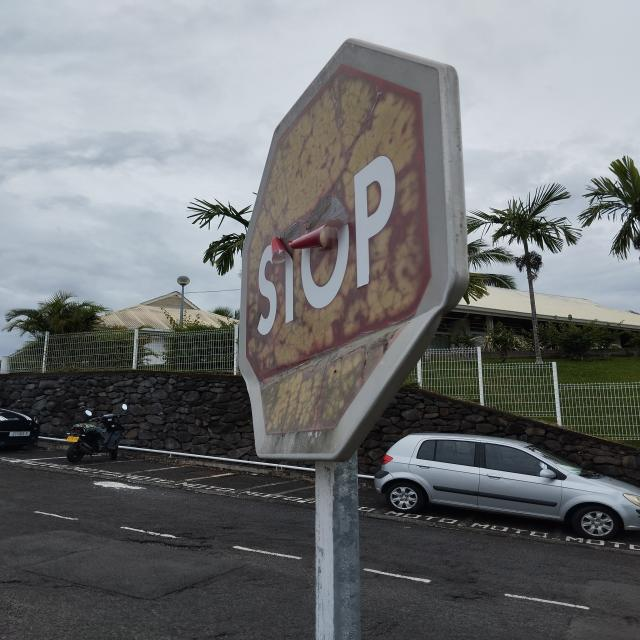Panneau-Stop: (244, 38, 462, 462)
